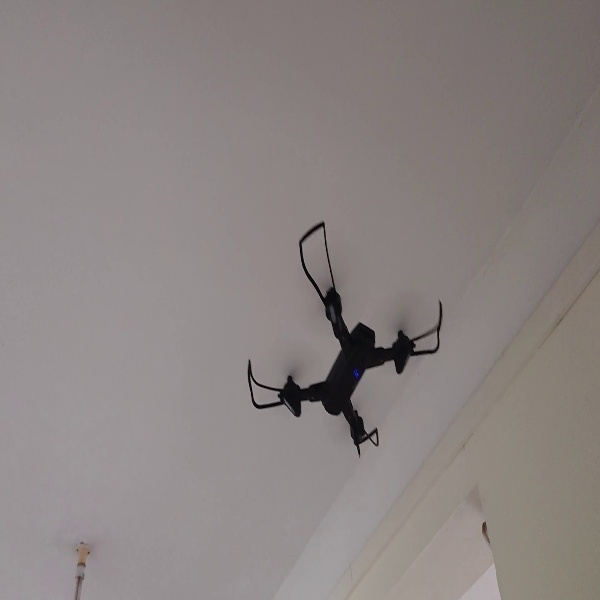drone: (247, 217, 447, 461)
